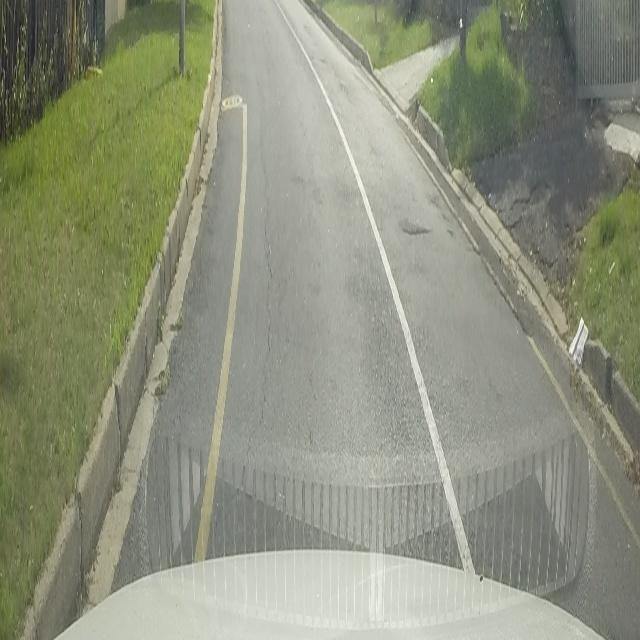pothole: (398, 215, 428, 236)
